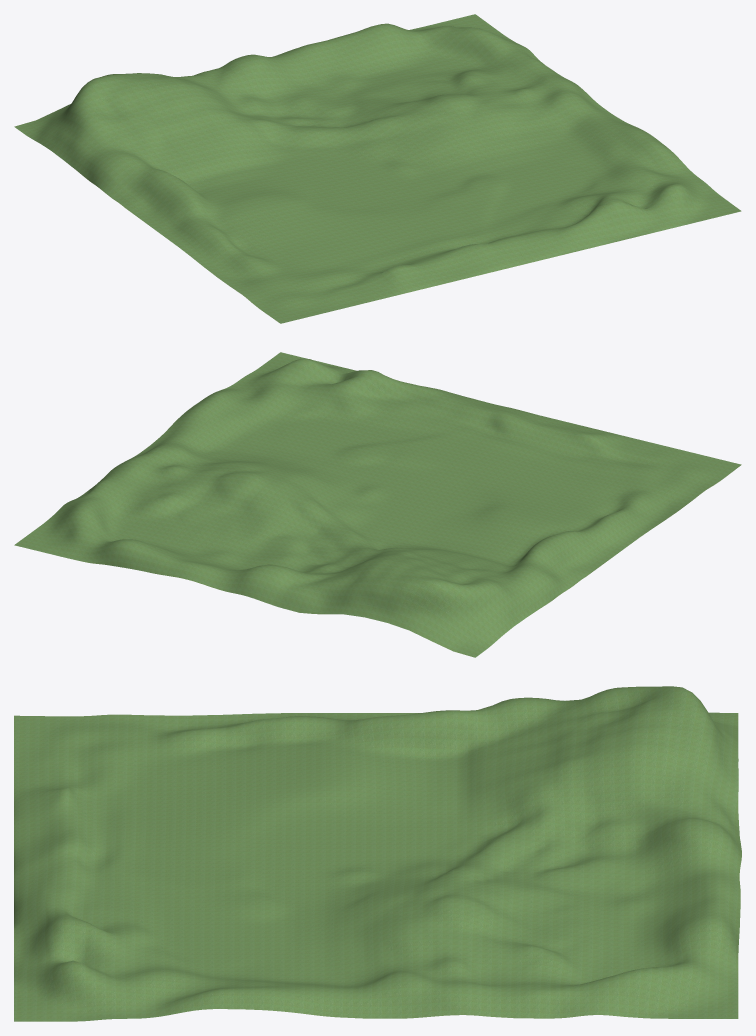
The model's file is Environment1.dae.
3 views of the same model, one above another, from view 1: azimuth 30°, elevation 25°; view 2: azimuth 150°, elevation 25°; view 3: azimuth 270°, elevation 25° (orthographic). The views are drawn at different scales.
Visible parts, largest first — view 1: Tree.005; view 2: Tree.005; view 3: Tree.005.
Part boxes in pixels (left/top/right/bottom): Tree.005: left=14, top=14, right=741, bottom=323; Tree.005: left=14, top=352, right=741, bottom=657; Tree.005: left=14, top=686, right=741, bottom=1021.
Size of the model in its own units: 1.59 by 1.59 by 0.167.
Materials: 1 (1 with a texture image).
